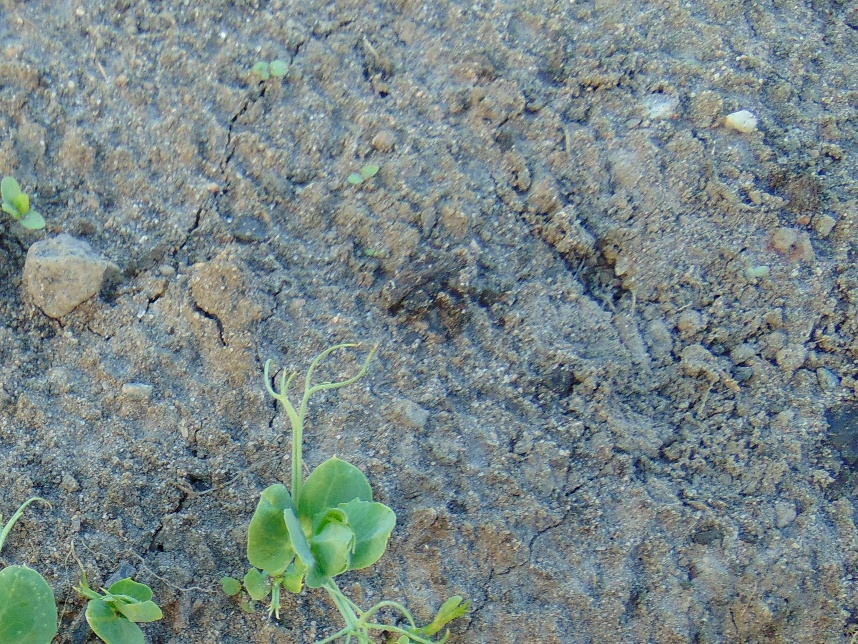crop: (239, 359, 460, 644), (1, 499, 54, 644), (68, 569, 162, 643)
weed: (1, 172, 50, 232)
